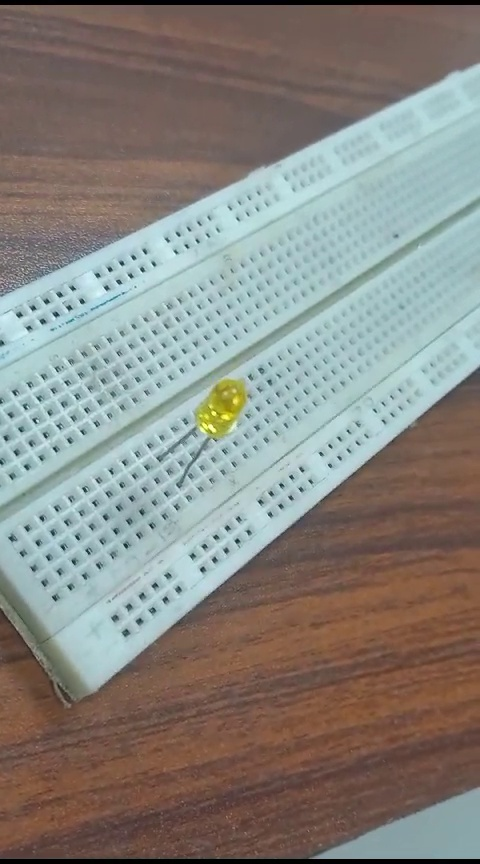LED: (175, 373, 247, 477)
